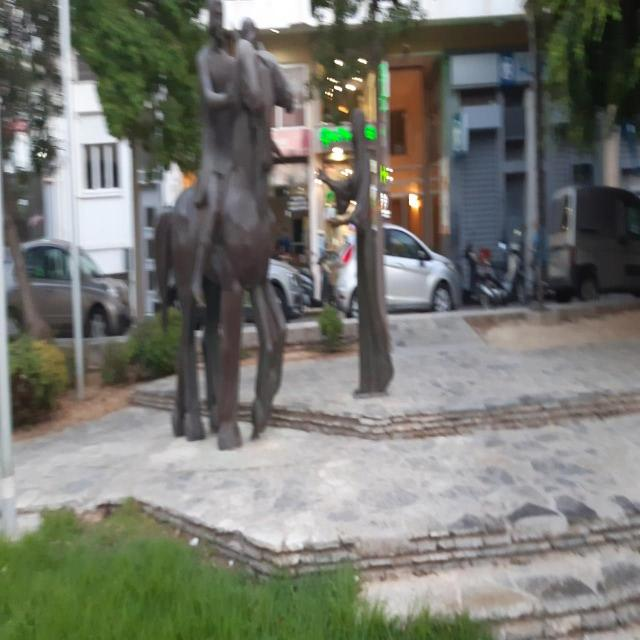Aretousa: (156, 1, 395, 455)
